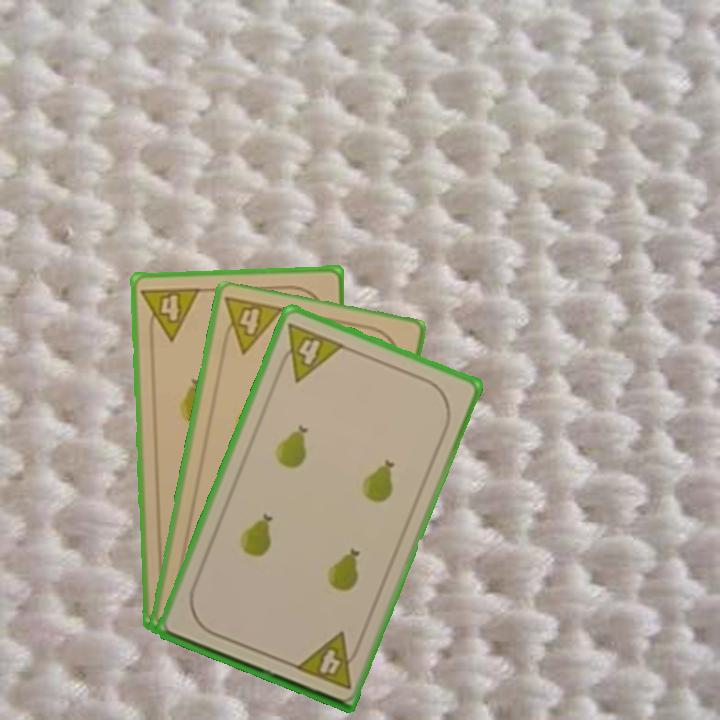4p: (272, 319, 347, 385), (291, 628, 365, 692), (217, 293, 286, 357), (138, 283, 203, 344)
